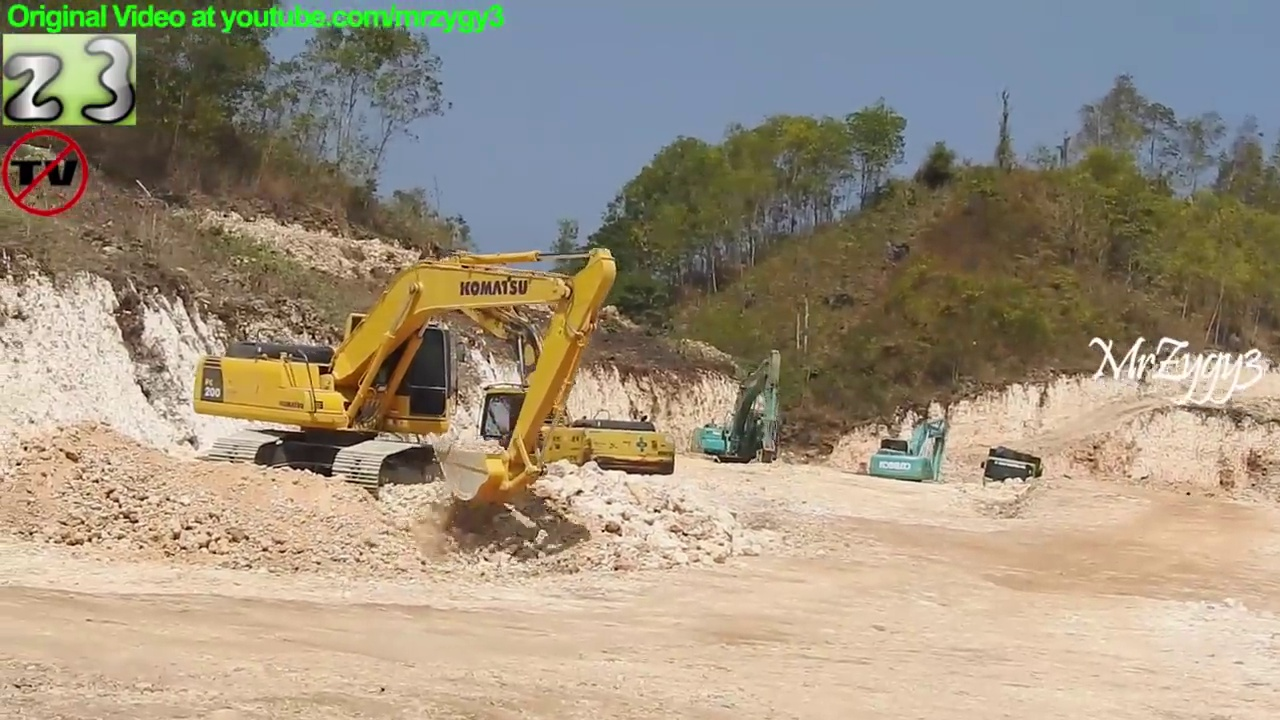excavator: (188, 238, 619, 512), (375, 243, 681, 500), (688, 345, 789, 476), (864, 409, 954, 493)
truck: (978, 438, 1048, 507)
